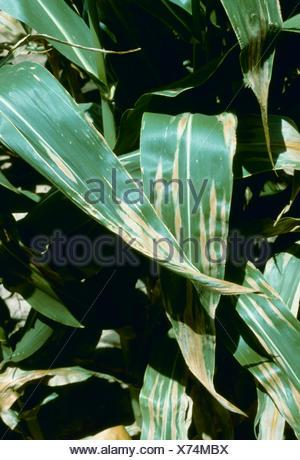Corn leaf blight: (3, 59, 251, 294), (141, 101, 243, 420)
